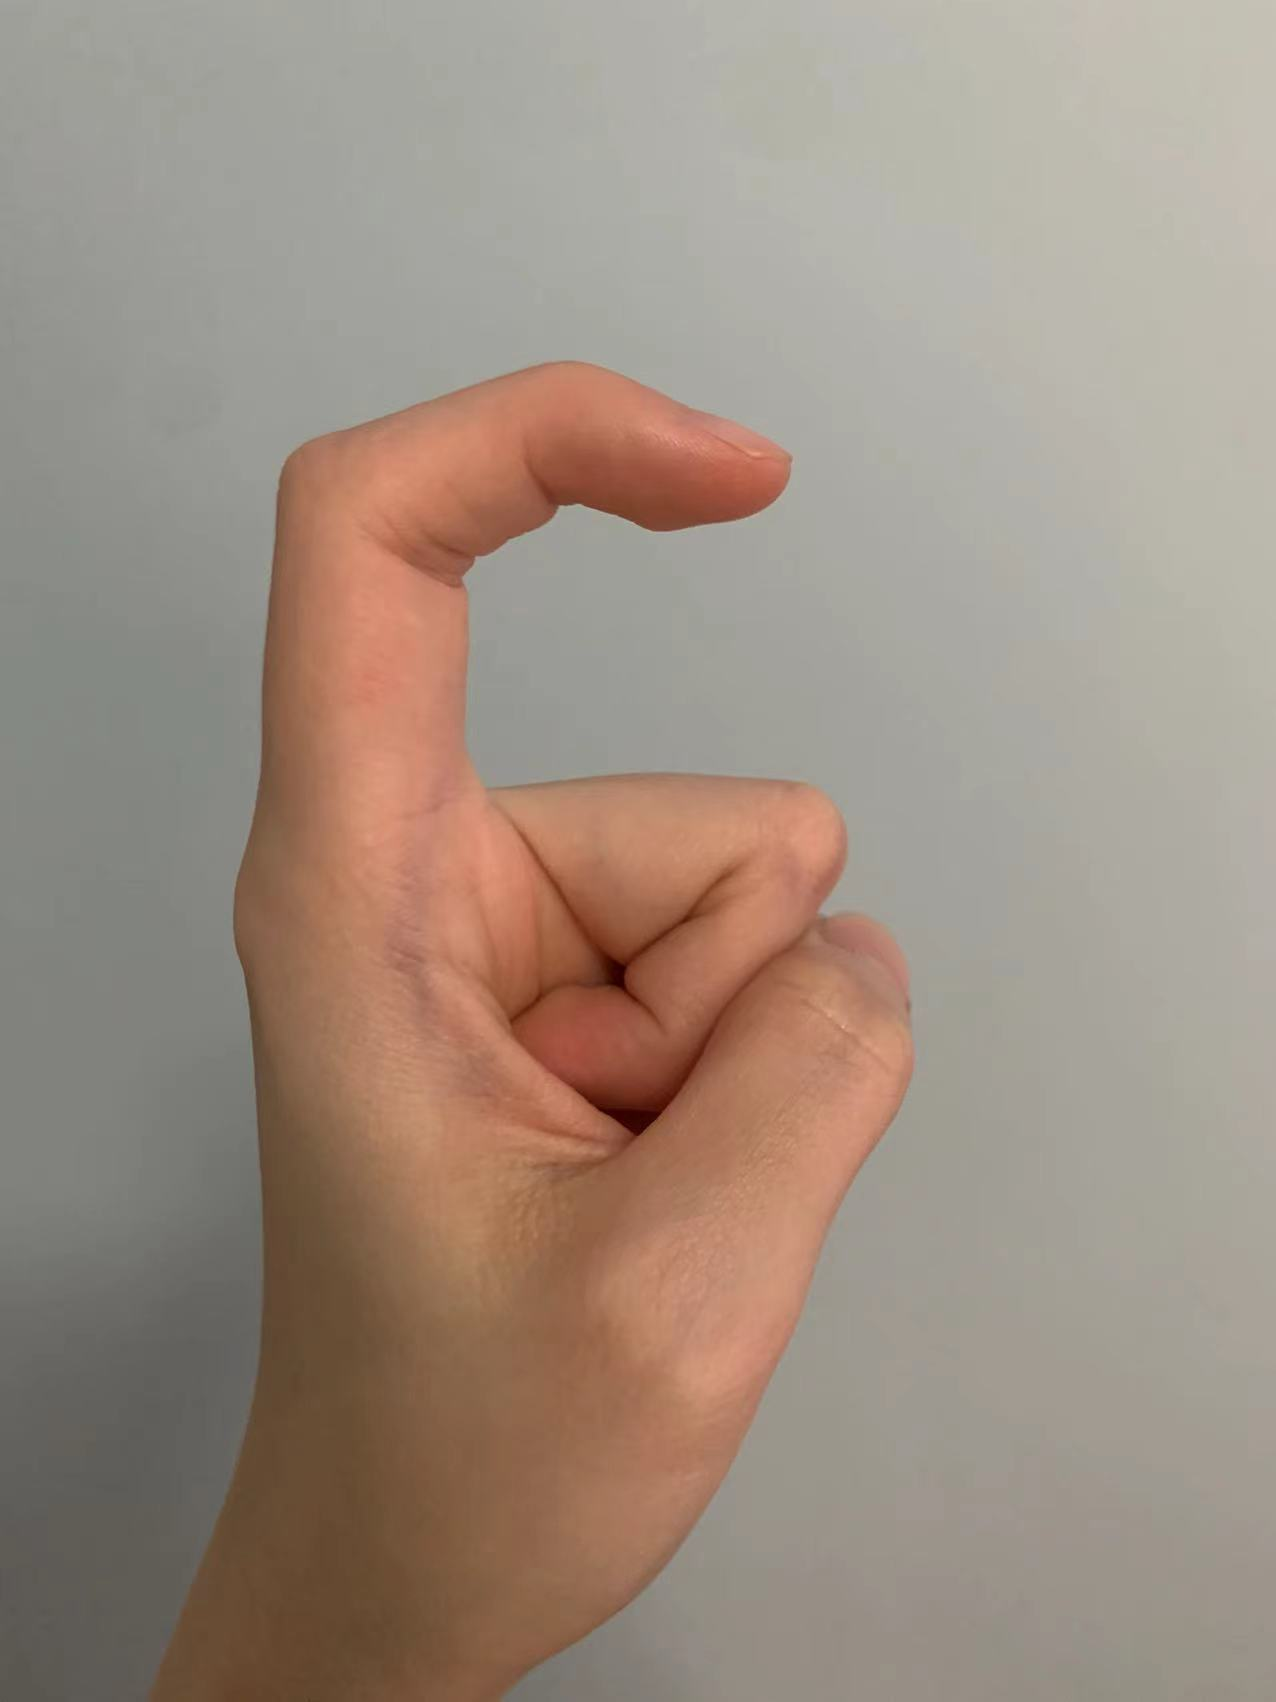anticlockwise: (209, 334, 929, 1564)
